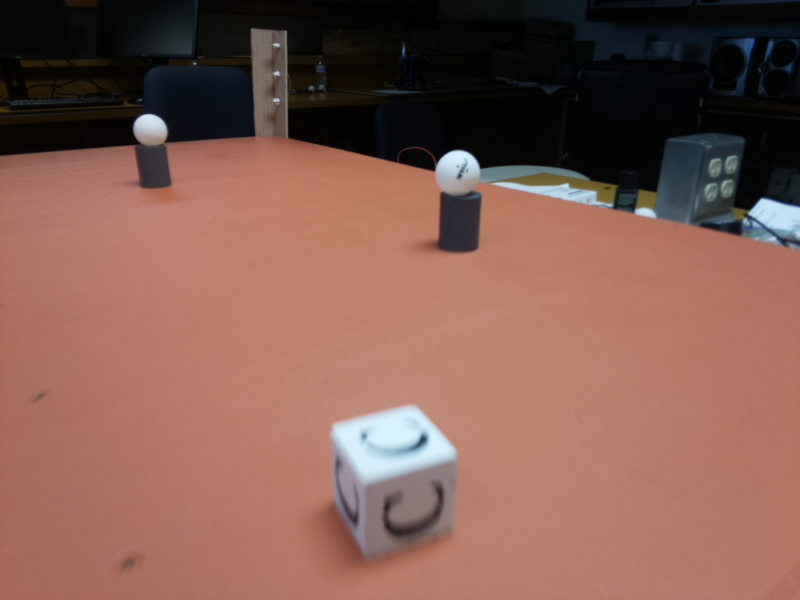blockC: (335, 406, 457, 557)
corner: (253, 30, 289, 136)
obstacle: (435, 145, 487, 257), (133, 108, 171, 193)
